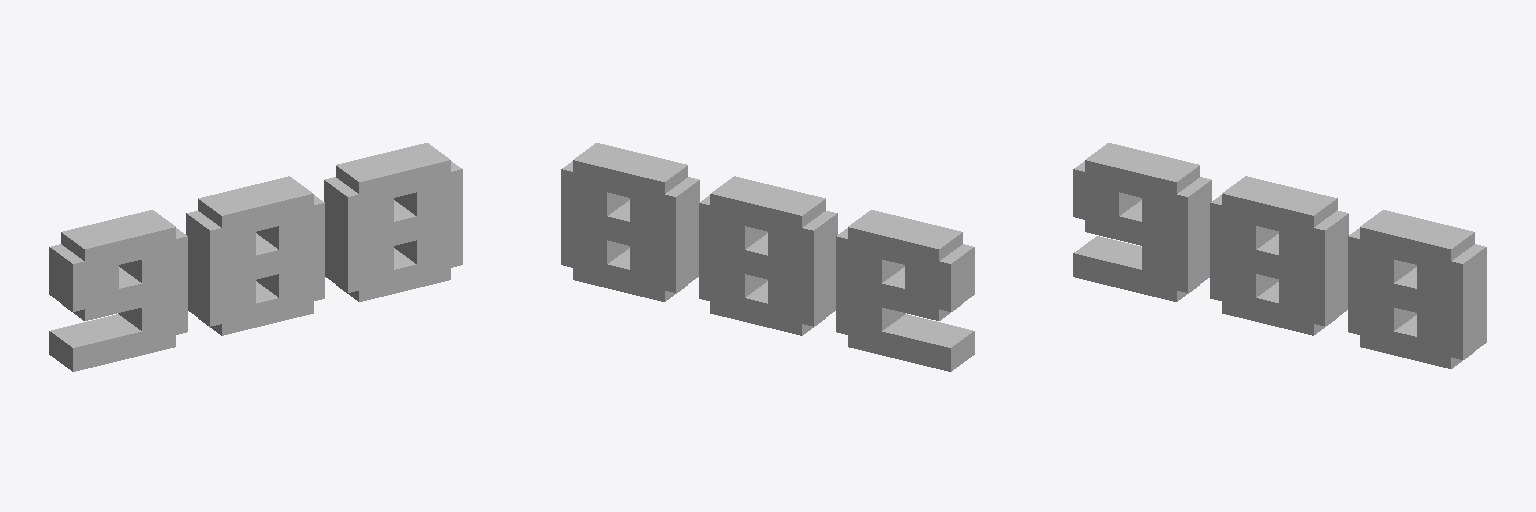
3 views of the same model, side by side, from view 1: azimuth 30°, elevation 25°; view 2: azimuth 150°, elevation 25°; view 3: azimuth 330°, elevation 25° (orthographic).
Visible parts, largest first — view 1: テキスト, テキスト.001, テキスト.002; view 2: テキスト, テキスト.001, テキスト.002; view 3: テキスト, テキスト.001, テキスト.002.
Boxes of the visible parts, box(x1,y1,x2,y2) form: テキスト: box(324, 143, 462, 301); テキスト.001: box(186, 176, 324, 335); テキスト.002: box(49, 210, 187, 371); テキスト: box(561, 143, 699, 301); テキスト.001: box(699, 176, 837, 335); テキスト.002: box(836, 210, 974, 371); テキスト: box(1348, 210, 1486, 368); テキスト.001: box(1210, 176, 1348, 335); テキスト.002: box(1073, 143, 1211, 301).
Size of the model in its own units: 2.83 by 0.8333 by 0.3.